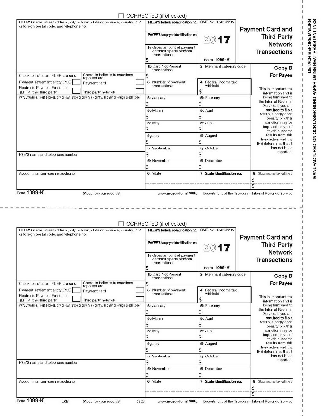checkbox: (71, 78, 81, 86), (136, 78, 146, 86), (135, 87, 145, 95), (71, 286, 81, 294), (135, 286, 145, 294), (72, 87, 82, 94), (71, 295, 81, 302), (135, 295, 145, 302), (117, 12, 125, 19), (117, 220, 125, 227)
textbox: (15, 93, 146, 153), (15, 301, 146, 361), (15, 17, 147, 74), (15, 226, 147, 282), (15, 168, 147, 191), (15, 150, 147, 172), (15, 358, 147, 380), (15, 377, 147, 399), (144, 250, 200, 272), (143, 43, 200, 64), (144, 269, 200, 290), (197, 268, 253, 289), (144, 61, 200, 81), (197, 61, 253, 81), (144, 77, 200, 97), (197, 77, 253, 97), (144, 285, 200, 305), (197, 285, 253, 305), (196, 313, 253, 330), (144, 313, 200, 330), (144, 376, 200, 393), (197, 376, 253, 393), (197, 363, 253, 380), (197, 338, 253, 355), (144, 106, 201, 122), (196, 106, 253, 122), (197, 156, 254, 172), (196, 168, 253, 184), (143, 326, 200, 342), (143, 339, 200, 355), (196, 326, 253, 342), (196, 301, 253, 317), (144, 17, 200, 33), (144, 30, 200, 46), (144, 93, 200, 109), (197, 93, 253, 109), (144, 118, 200, 134), (197, 118, 253, 134), (144, 131, 200, 147), (197, 131, 253, 147), (197, 143, 253, 159), (145, 143, 201, 159), (144, 156, 200, 172), (144, 169, 200, 185), (144, 301, 200, 317), (143, 351, 199, 367), (144, 364, 200, 380), (197, 351, 253, 367), (144, 226, 199, 241), (145, 238, 200, 253), (250, 376, 296, 392), (250, 168, 295, 184), (197, 181, 253, 191), (144, 181, 200, 190), (144, 389, 199, 398), (197, 390, 252, 399), (250, 389, 296, 399), (250, 181, 295, 191)
